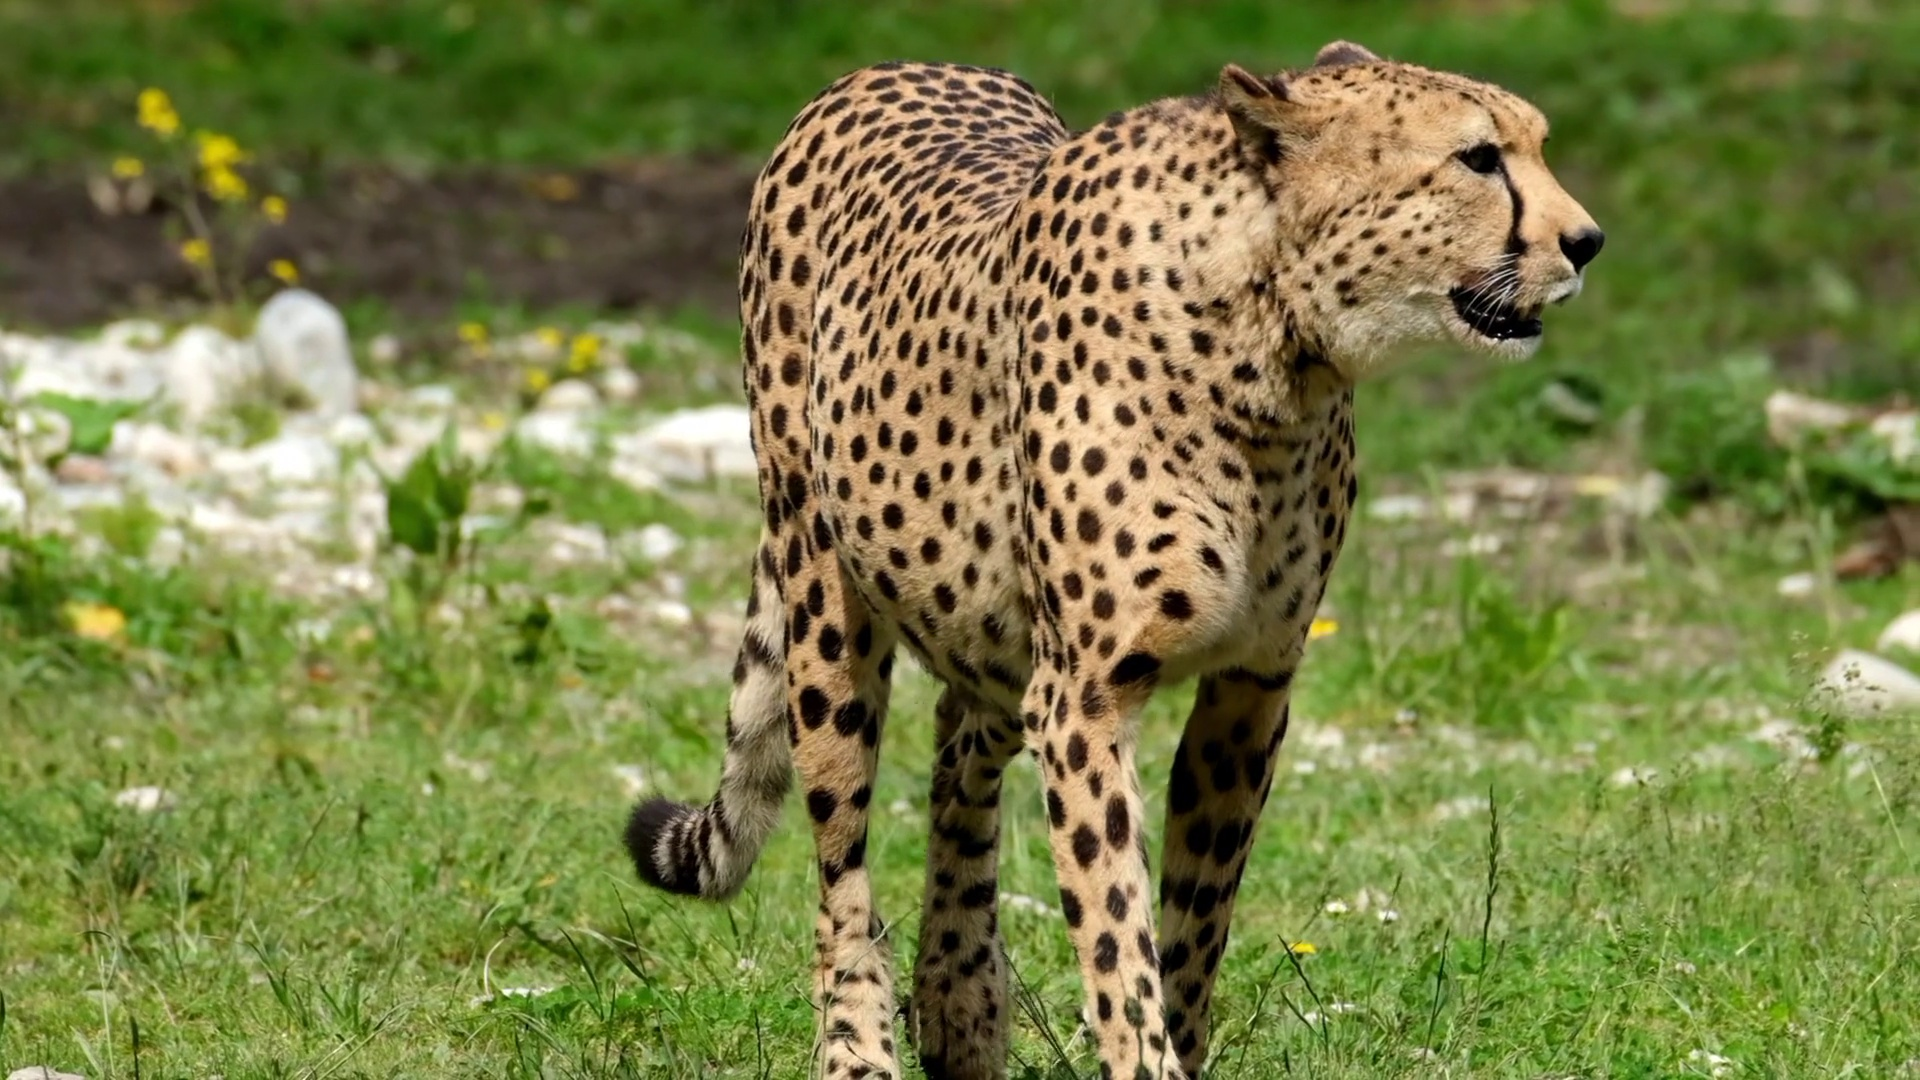Cheetah: (622, 36, 1607, 1080)
